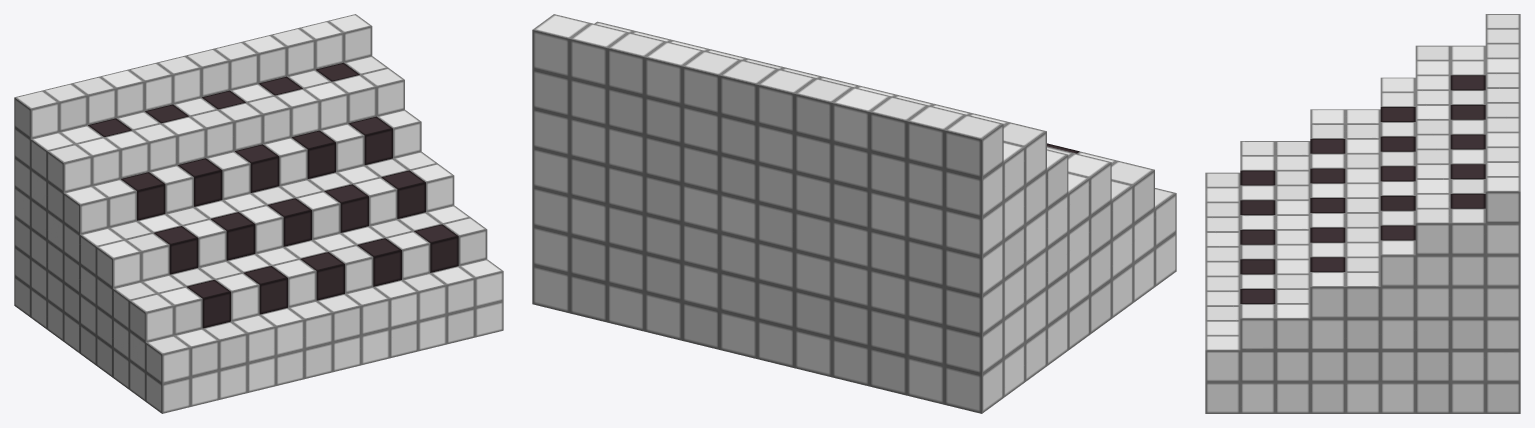
Rendered from monitor_wedge.glb.
The picture shows the model from 3 angles, left to right: view 1: azimuth 30°, elevation 25°; view 2: azimuth 150°, elevation 25°; view 3: azimuth 270°, elevation 25°; orthographic projection. The views are drawn at different scales.
Parts seen in each view (by area): view 1: monitor_wedge; view 2: monitor_wedge; view 3: monitor_wedge.
Boxes of the visible parts, left/top/right/bottom form: monitor_wedge: left=14, top=14, right=503, bottom=413; monitor_wedge: left=532, top=14, right=1176, bottom=413; monitor_wedge: left=1205, top=14, right=1520, bottom=413.
Bounding box in the file's own units: 0.6 × 0.35 × 0.45.
3 materials, 3 textured.
